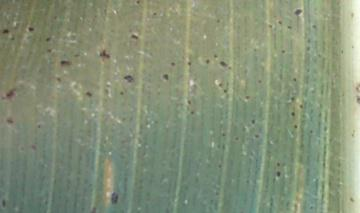tarspot: (1, 86, 19, 101), (98, 47, 111, 62), (109, 190, 119, 206), (58, 58, 75, 66), (217, 59, 229, 69), (123, 74, 134, 84), (292, 8, 304, 17), (4, 116, 14, 126), (129, 32, 139, 42), (26, 25, 36, 34), (71, 52, 82, 60), (161, 72, 170, 81), (354, 93, 360, 106), (348, 195, 356, 204), (354, 82, 360, 94), (44, 35, 51, 45), (349, 11, 356, 21), (1, 198, 7, 209), (54, 75, 62, 83), (1, 28, 10, 35), (185, 98, 192, 107), (52, 13, 59, 22), (289, 95, 296, 103), (84, 90, 92, 97), (253, 132, 261, 139), (216, 162, 223, 170), (305, 36, 311, 45), (204, 57, 210, 66), (292, 123, 299, 130), (118, 90, 125, 97), (310, 23, 317, 30), (276, 19, 283, 26), (304, 45, 311, 52), (169, 60, 176, 67), (188, 109, 195, 116), (212, 52, 219, 59), (233, 135, 240, 142), (9, 35, 16, 42), (275, 170, 281, 178), (244, 93, 250, 101), (265, 23, 273, 29), (339, 48, 345, 56), (252, 46, 258, 54), (275, 160, 281, 167), (250, 118, 256, 125), (298, 103, 304, 110), (291, 76, 297, 83), (45, 47, 52, 53), (280, 48, 286, 55), (286, 24, 293, 30), (222, 87, 228, 94), (217, 81, 223, 88), (256, 78, 262, 85), (215, 17, 221, 24), (227, 65, 233, 72), (151, 11, 158, 17), (308, 204, 313, 212), (350, 43, 355, 51), (290, 111, 296, 117), (35, 123, 41, 129), (186, 60, 192, 66), (220, 131, 226, 137), (308, 128, 313, 135), (134, 1, 140, 6)
